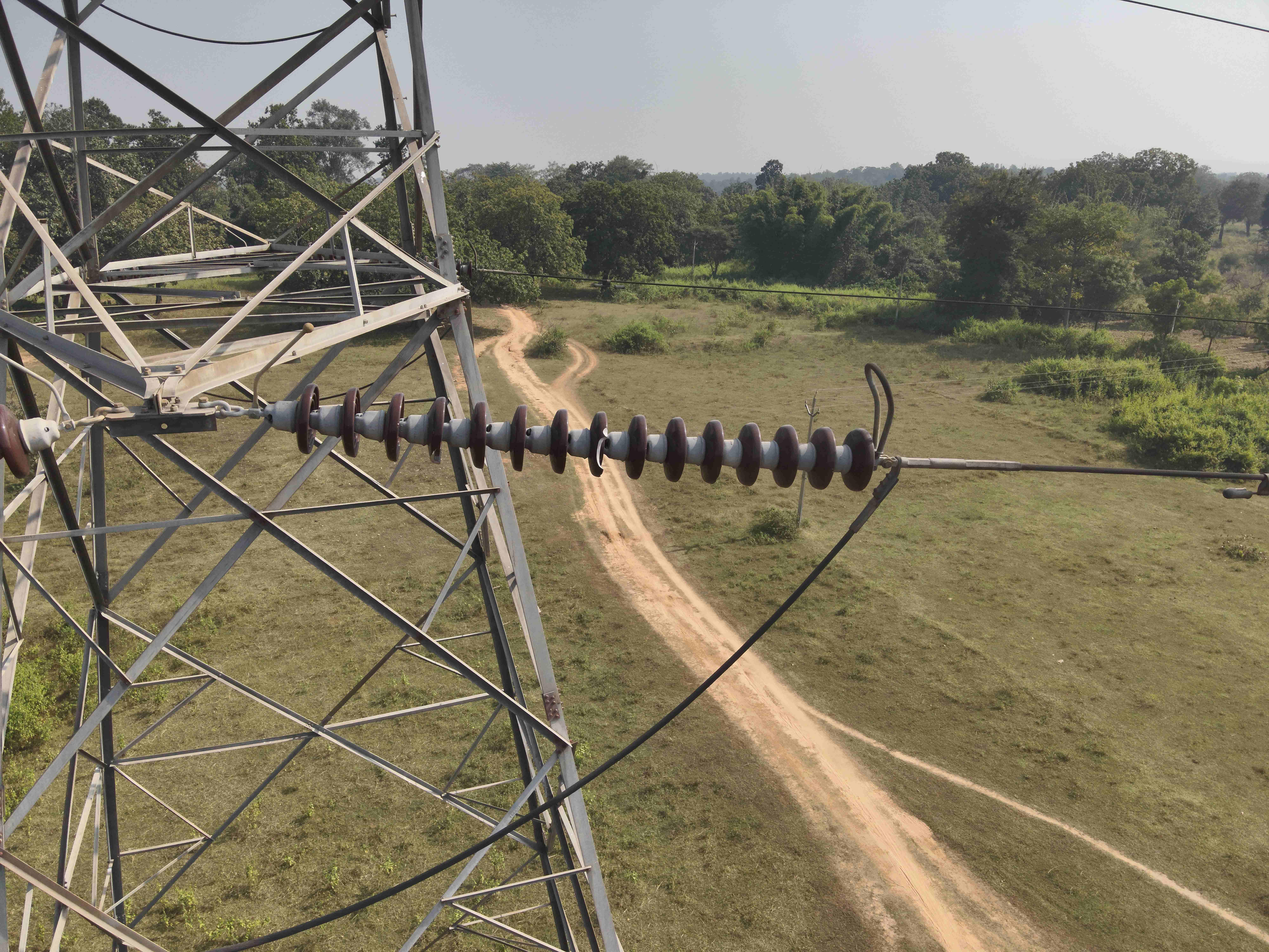broken_insulator: (582, 405, 615, 491)
